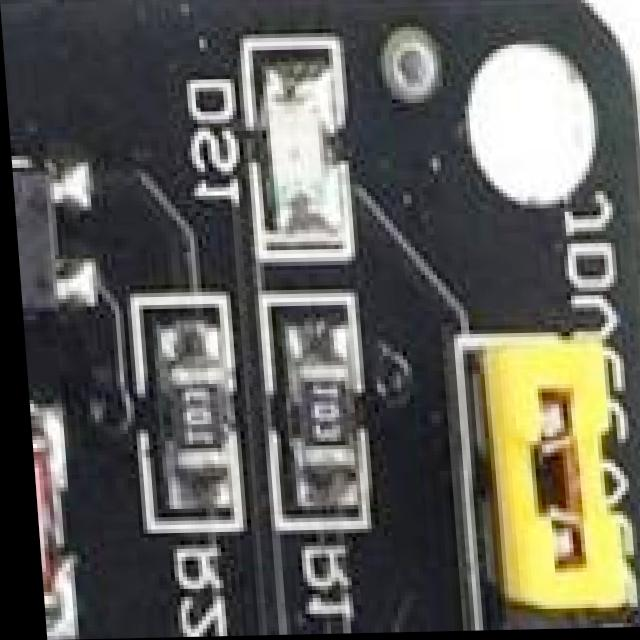LED: (247, 40, 351, 248)
connector: (465, 346, 621, 632)
diode: (24, 411, 73, 628)
resistor: (156, 334, 251, 534), (276, 330, 360, 504)
transistor: (9, 151, 86, 308)
